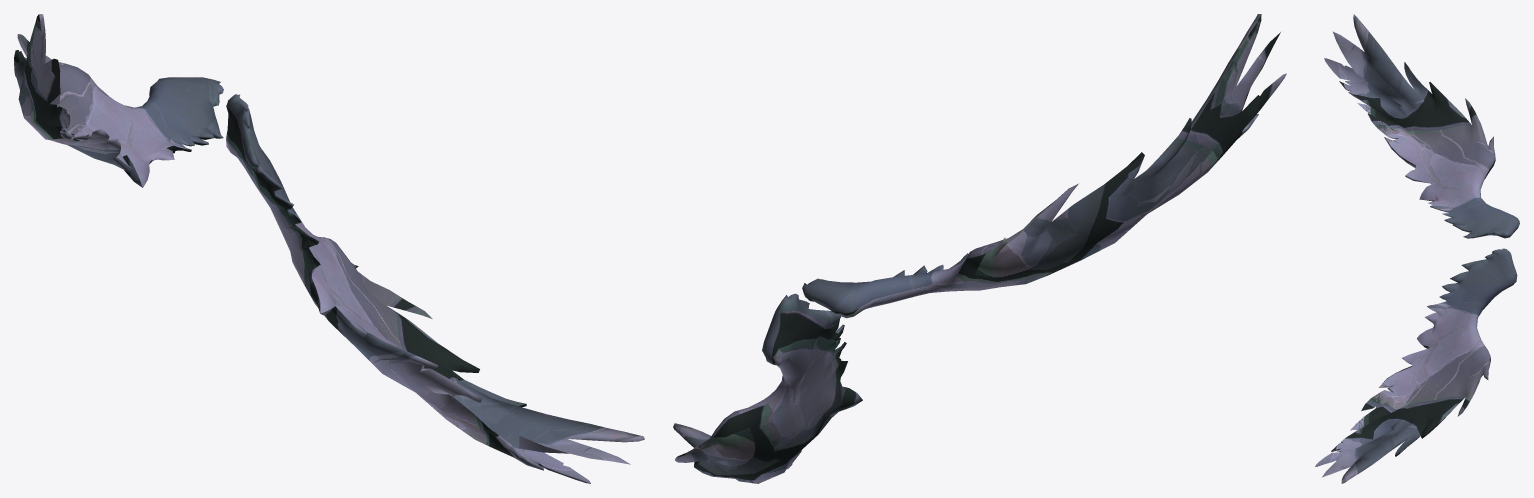
The model's file is Wing1.FBX.
3 views of the same model, side by side, from view 1: azimuth 30°, elevation 25°; view 2: azimuth 150°, elevation 25°; view 3: azimuth 270°, elevation 25° (orthographic). The views are drawn at different scales.
Parts seen in each view (by area): view 1: Mesh_0041; view 2: Mesh_0041; view 3: Mesh_0041.
Boxes of the visible parts, x1,y1,x2,y2 form: Mesh_0041: [14, 14, 644, 483]; Mesh_0041: [673, 14, 1286, 483]; Mesh_0041: [1315, 14, 1519, 483].
Bounding box in the file's own units: 284 × 260 × 154.
